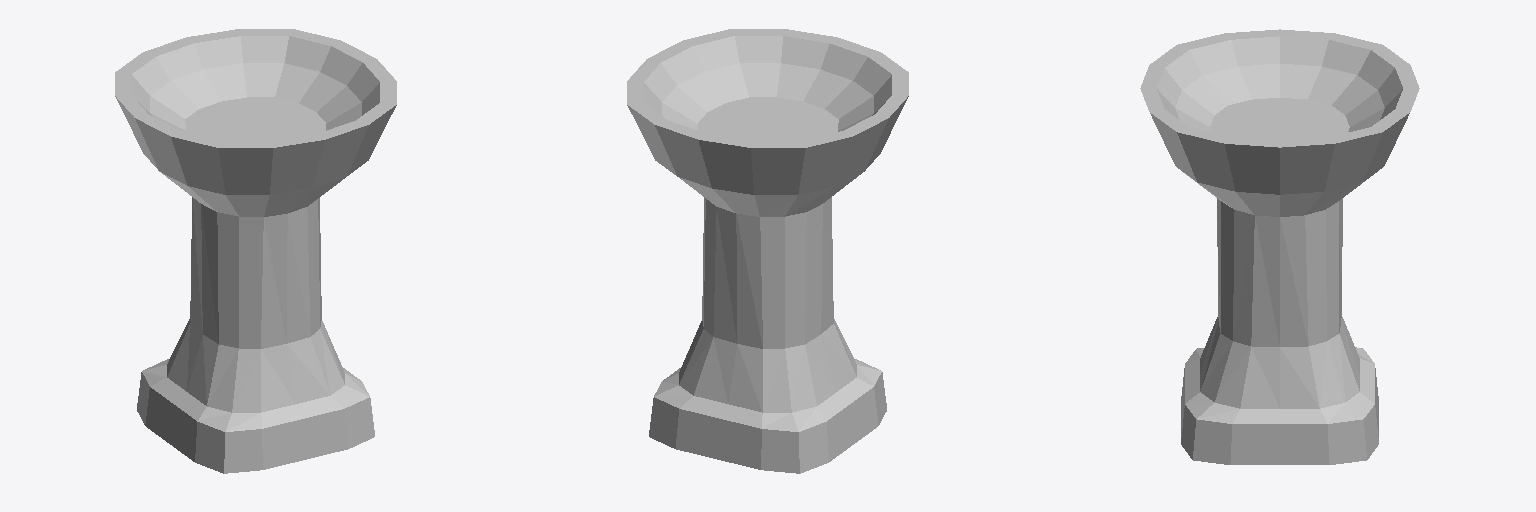
Rendered from ArtifSlot.obj.
3 renders of one model, left to right at view 1: azimuth 30°, elevation 25°; view 2: azimuth 150°, elevation 25°; view 3: azimuth 270°, elevation 25°, orthographic.
Visible parts, largest first — view 1: ArtifSlot; view 2: ArtifSlot; view 3: ArtifSlot.
Boxes of the visible parts, x1,y1,x2,y2 form: ArtifSlot: [115, 29, 396, 473]; ArtifSlot: [627, 29, 908, 473]; ArtifSlot: [1140, 29, 1419, 464].
Bounding box in the file's own units: 95.62 × 126 × 95.62.